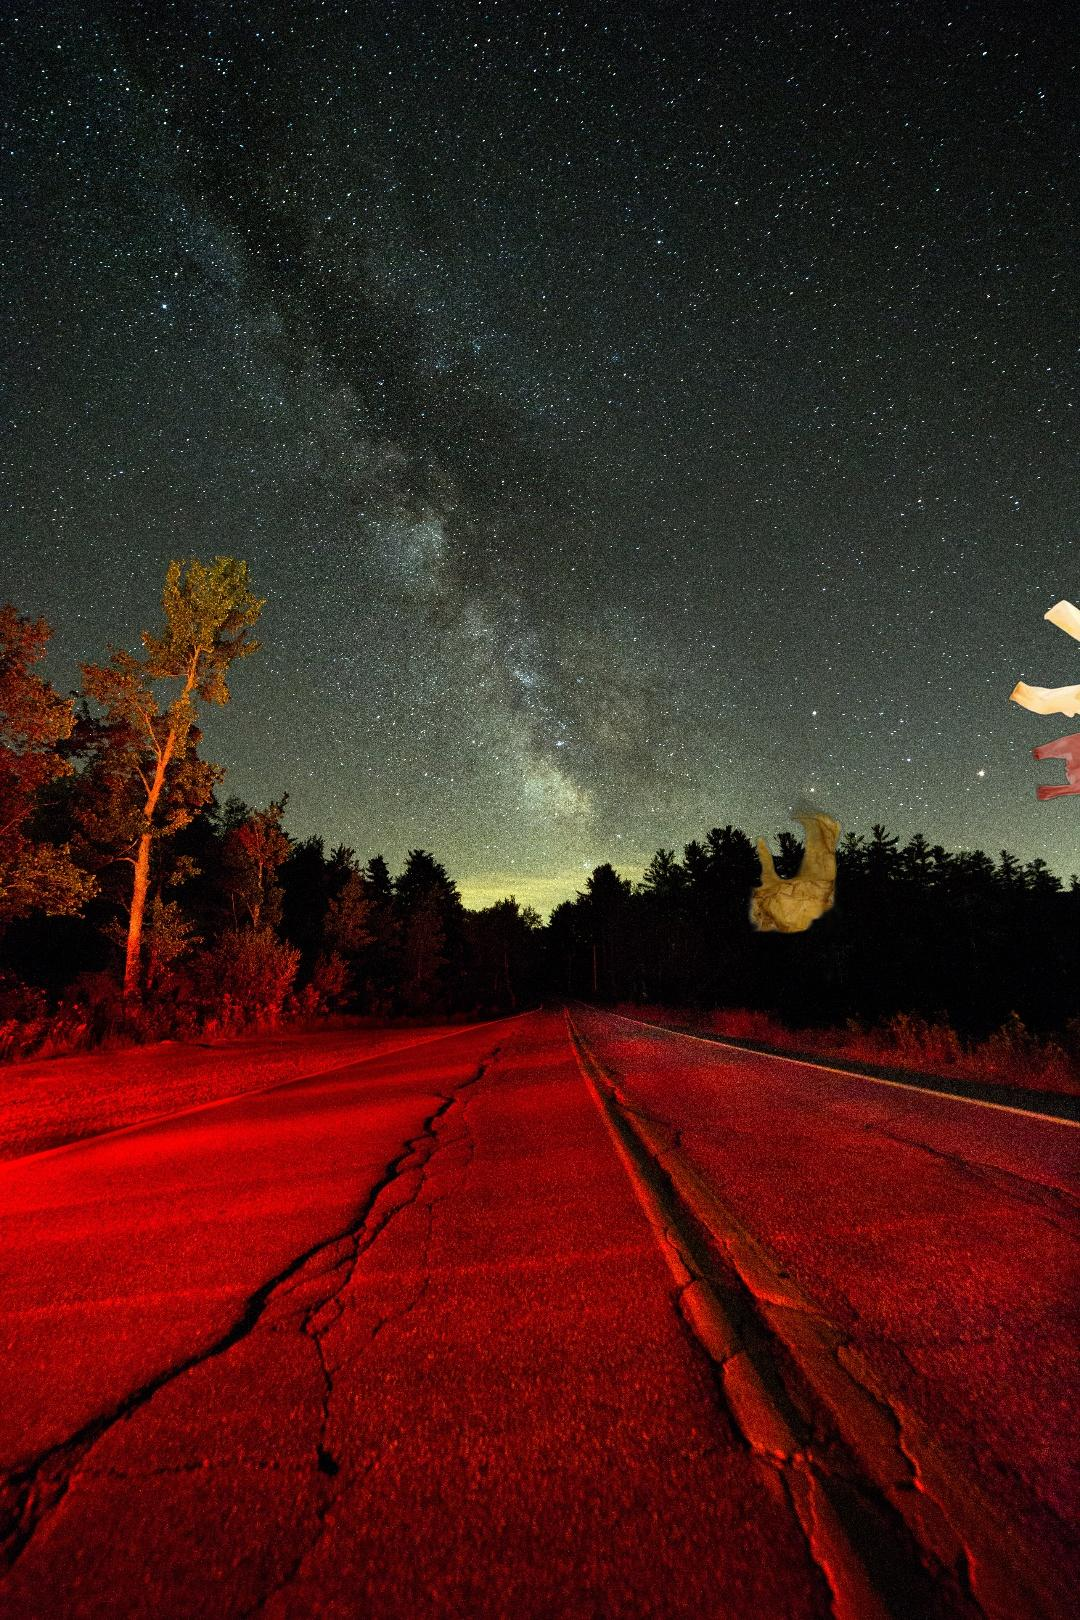plastic-bag: (1006, 597, 1080, 803)
trash: (711, 775, 903, 1034)
